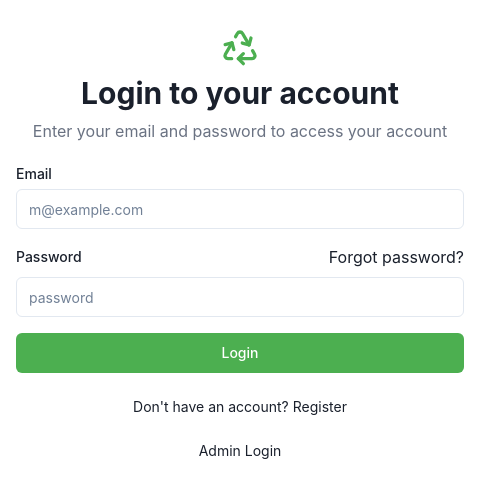
Test: LoginPage › shows invalid email format error
The width and height of the screenshot is (481, 490).
Type "invalid" into the field labelled "Email" at x=240, y=209, box [16,189,464,229]
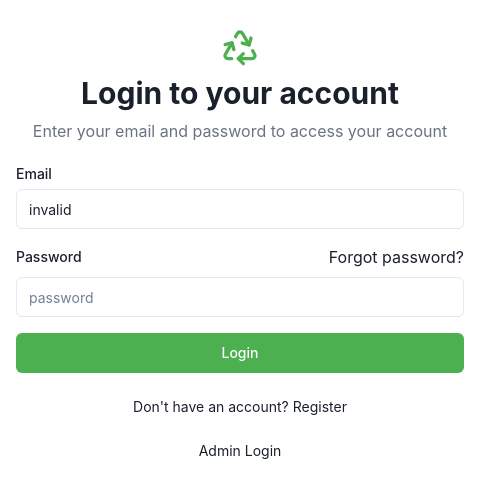
Type "pass1234" into the password field labelled "Password" at x=240, y=297, box [16,277,464,317]
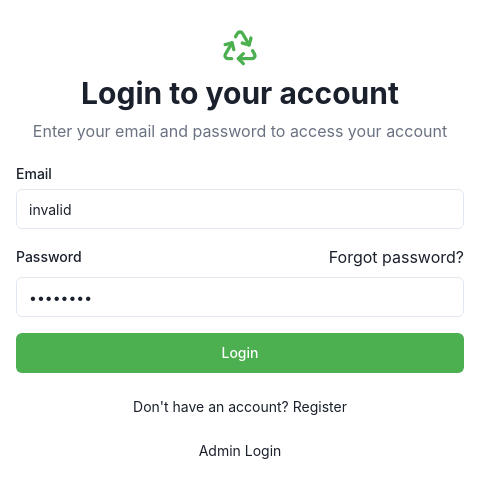
Click the button "Login" at x=240, y=353, box [16,333,464,373]
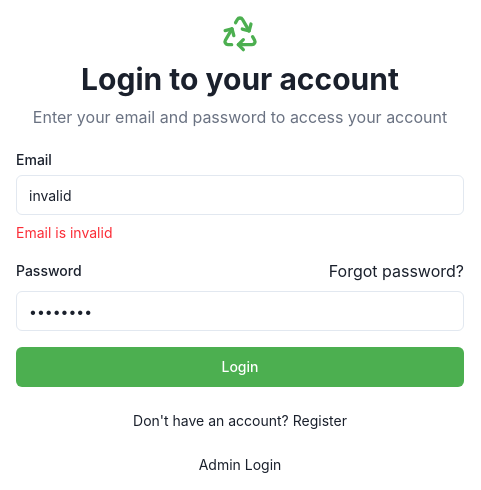
Expected: the text "Email is invalid" is shown, [16,224,112,241]
